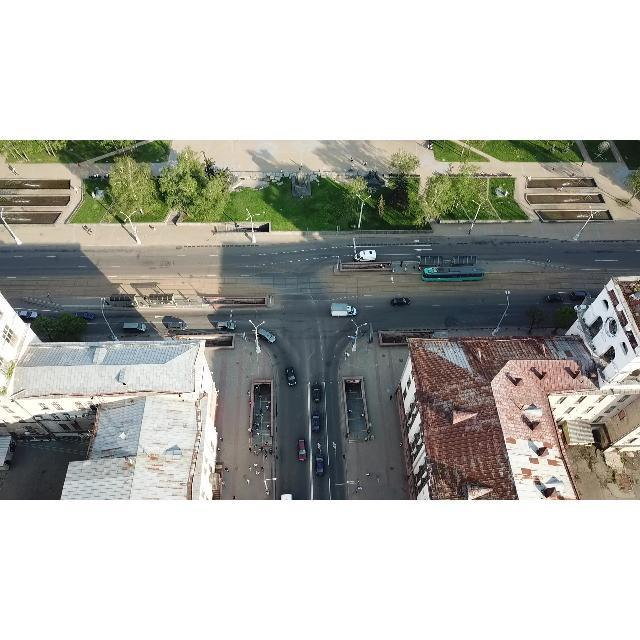vehicle: (330, 303, 358, 317), (256, 328, 276, 344), (354, 250, 376, 262), (166, 321, 188, 332), (122, 322, 146, 332), (14, 310, 38, 320), (285, 366, 297, 386), (72, 312, 95, 321), (391, 297, 411, 307), (311, 383, 321, 402), (216, 322, 236, 331), (315, 454, 323, 476), (298, 439, 306, 461), (570, 292, 592, 300), (312, 411, 320, 432), (546, 294, 564, 302)
